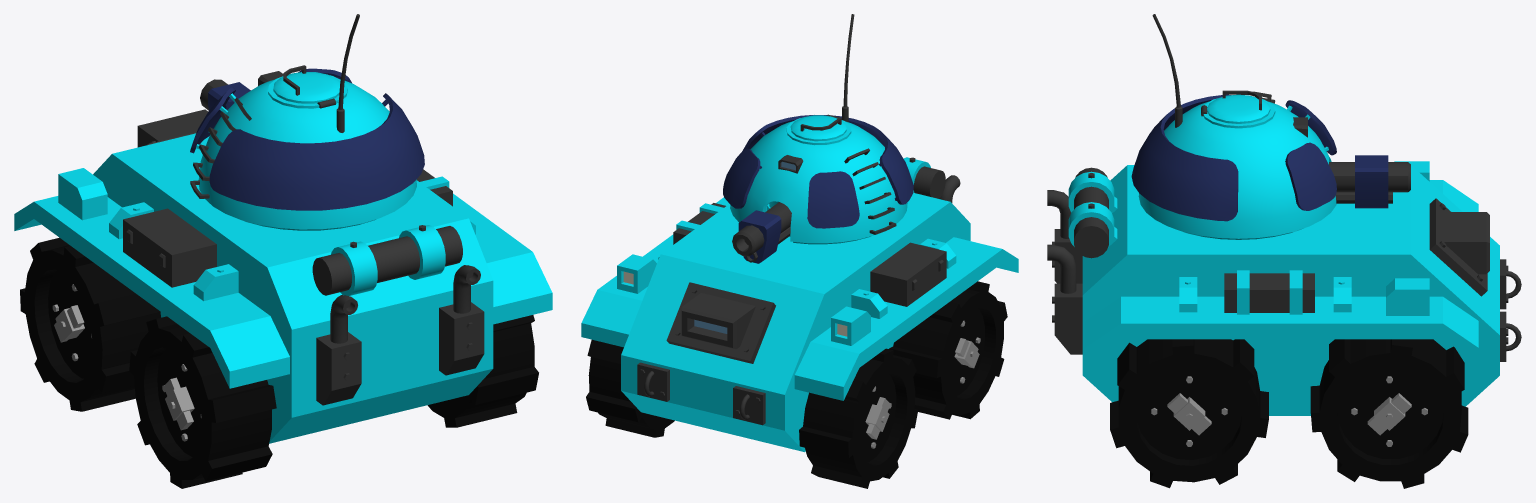
File: Tank_4.fbx
3 views of the same model, side by side, from view 1: azimuth 30°, elevation 25°; view 2: azimuth 150°, elevation 25°; view 3: azimuth 270°, elevation 25° (orthographic). The views are drawn at different scales.
Parts seen in each view (by area): view 1: Tank_D_Body, Tank_D_Turret, Tank_D_Wheel_R_L, Tank_D_Wheel_F_L, Tank_D_Wheel_R_R; view 2: Tank_D_Body, Tank_D_Turret, Tank_D_Wheel_F_L, Tank_D_Wheel_R_L, Tank_D_Wheel_F_R; view 3: Tank_D_Body, Tank_D_Turret, Tank_D_Wheel_R_R, Tank_D_Wheel_F_R.
Boxes of the visible parts, x1,y1,x2,y2 form: Tank_D_Body: [14, 109, 552, 443]; Tank_D_Turret: [190, 14, 424, 230]; Tank_D_Wheel_R_L: [129, 316, 276, 488]; Tank_D_Wheel_F_L: [20, 237, 160, 411]; Tank_D_Wheel_R_R: [427, 315, 538, 427]; Tank_D_Body: [581, 157, 1018, 452]; Tank_D_Turret: [723, 14, 913, 263]; Tank_D_Wheel_F_L: [799, 348, 918, 488]; Tank_D_Wheel_R_L: [889, 281, 1007, 419]; Tank_D_Wheel_F_R: [586, 339, 674, 437]; Tank_D_Body: [1047, 161, 1521, 415]; Tank_D_Turret: [1131, 14, 1410, 239]; Tank_D_Wheel_R_R: [1110, 339, 1268, 488]; Tank_D_Wheel_F_R: [1310, 339, 1468, 488].
Bounding box in the file's own units: 74.12 × 96.28 × 102.
